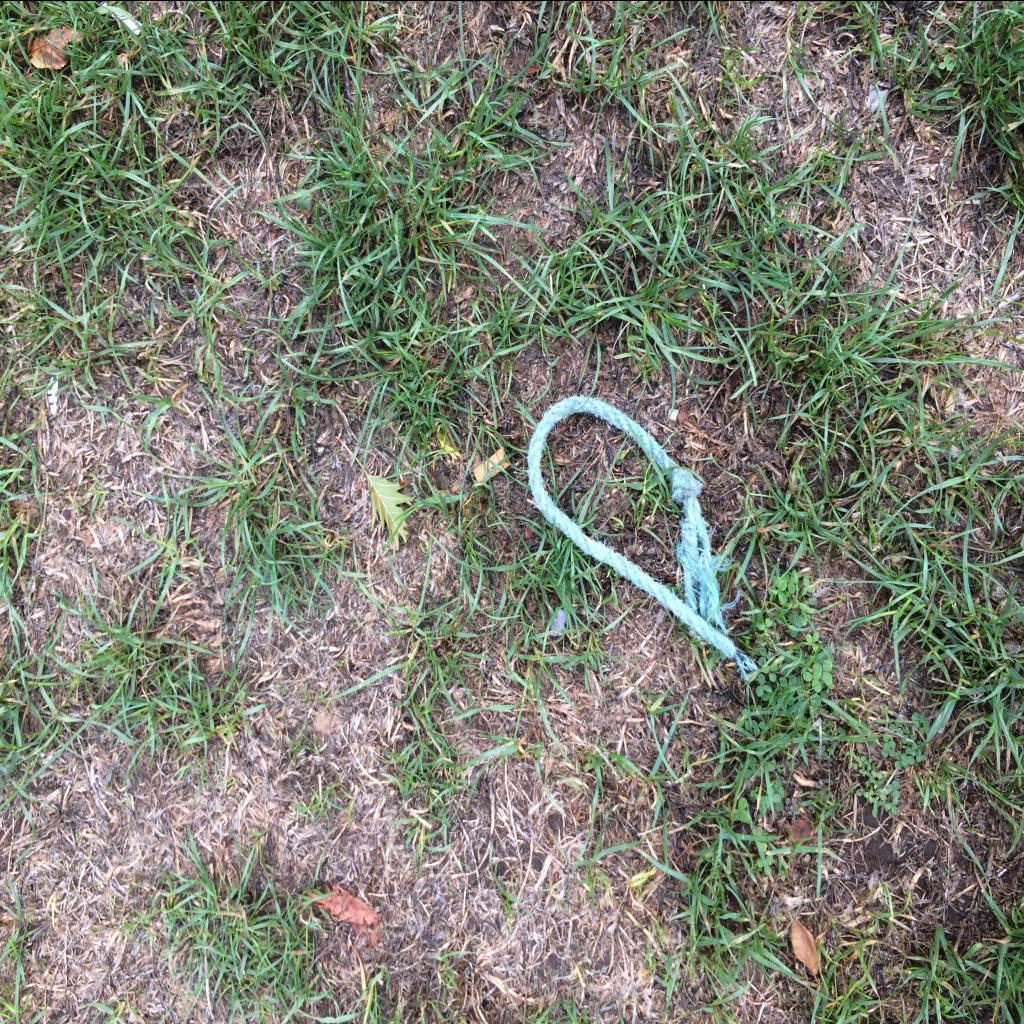Cigarette: (474, 447, 510, 482)
Rope - strings: (528, 394, 756, 680)
